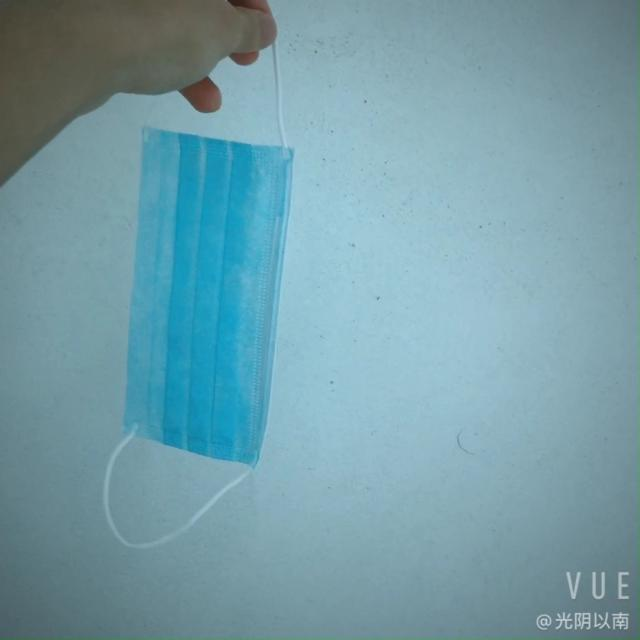face mask: (113, 125, 301, 467)
